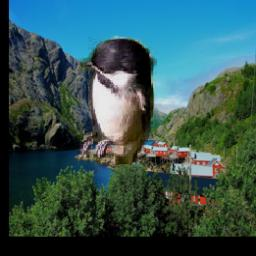Swallow: (77, 33, 157, 164)
